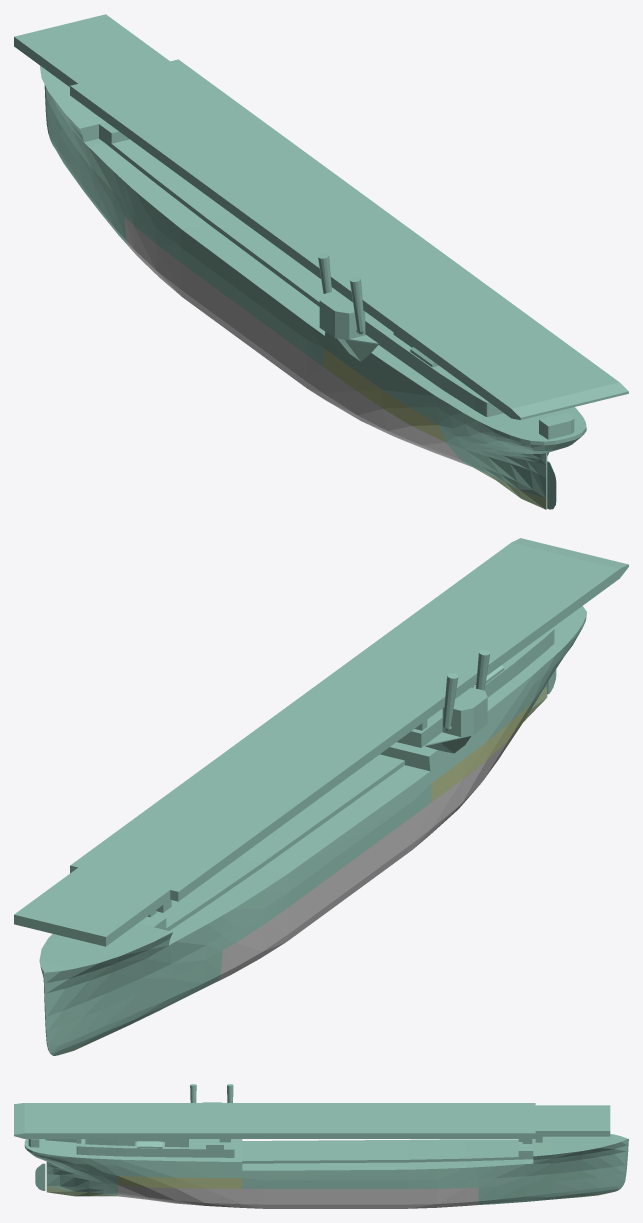
File: PASA104_armor.glb
3 views of the same model, one above another, from view 1: azimuth 30°, elevation 25°; view 2: azimuth 150°, elevation 25°; view 3: azimuth 270°, elevation 25° (orthographic). The views are drawn at different scales.
Visible parts, largest first — view 1: armor; view 2: armor; view 3: armor.
Boxes of the visible parts, x1,y1,x2,y2 form: armor: (14, 14, 628, 509); armor: (14, 538, 628, 1055); armor: (14, 1084, 628, 1208).
Size of the model in its own units: 28.47 by 33.36 by 200.
